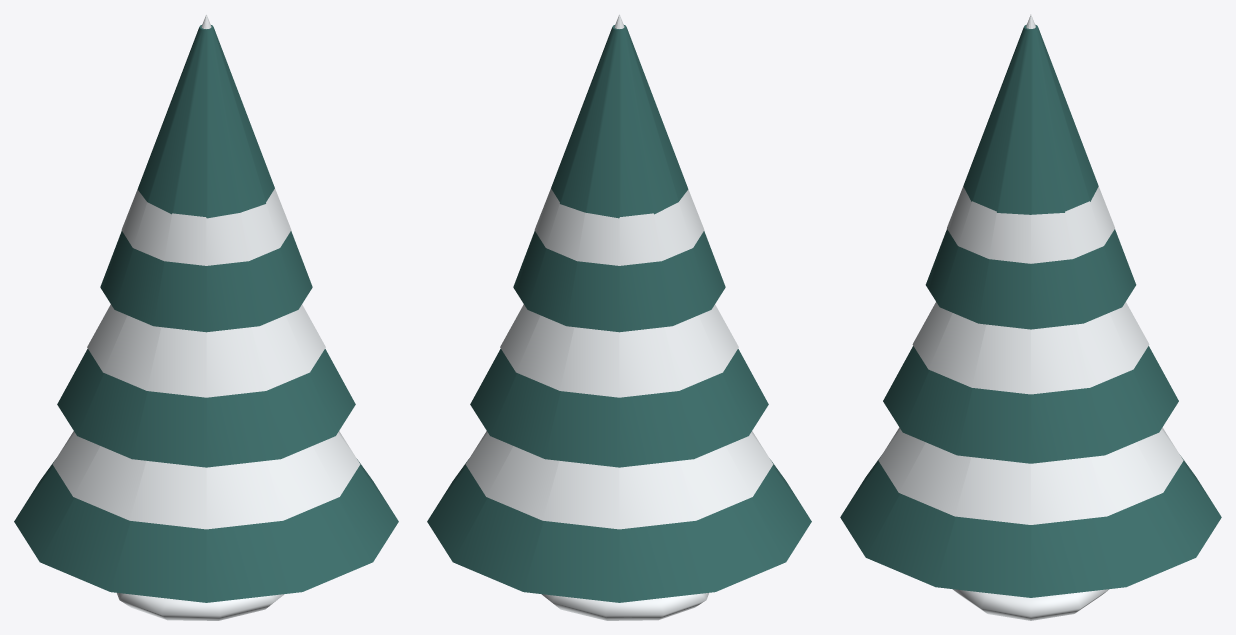
The model's file is sapling.glb.
3 views of the same model, side by side, from view 1: azimuth 30°, elevation 25°; view 2: azimuth 150°, elevation 25°; view 3: azimuth 270°, elevation 25° (orthographic).
Parts seen in each view (by area): view 1: snowy-fir-sapling-pine, snowy-fir-sapling-snow; view 2: snowy-fir-sapling-pine, snowy-fir-sapling-snow; view 3: snowy-fir-sapling-pine, snowy-fir-sapling-snow.
Boxes of the visible parts, x1=… form: snowy-fir-sapling-pine: x1=14, y1=25, x2=398, y2=602; snowy-fir-sapling-snow: x1=52, y1=14, x2=360, y2=620; snowy-fir-sapling-pine: x1=427, y1=25, x2=811, y2=602; snowy-fir-sapling-snow: x1=465, y1=14, x2=773, y2=620; snowy-fir-sapling-pine: x1=840, y1=24, x2=1221, y2=597; snowy-fir-sapling-snow: x1=878, y1=14, x2=1183, y2=620.
Bounding box in the file's own units: 1.34 × 2.25 × 1.34.
